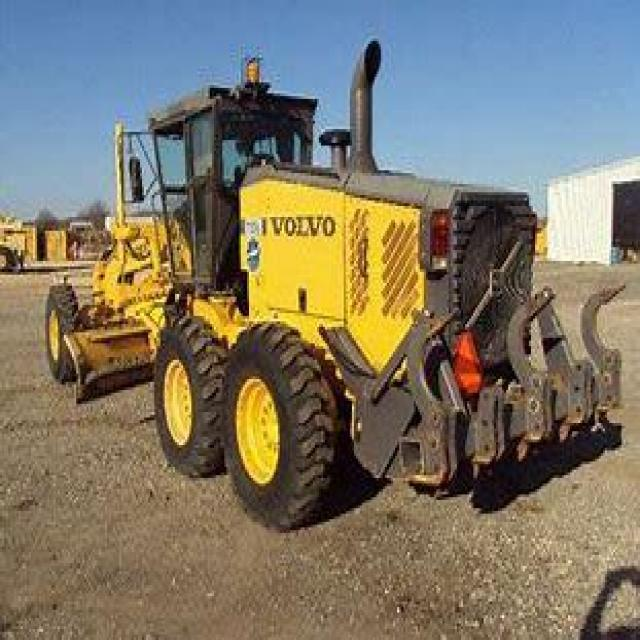Grader: (50, 64, 620, 538)
